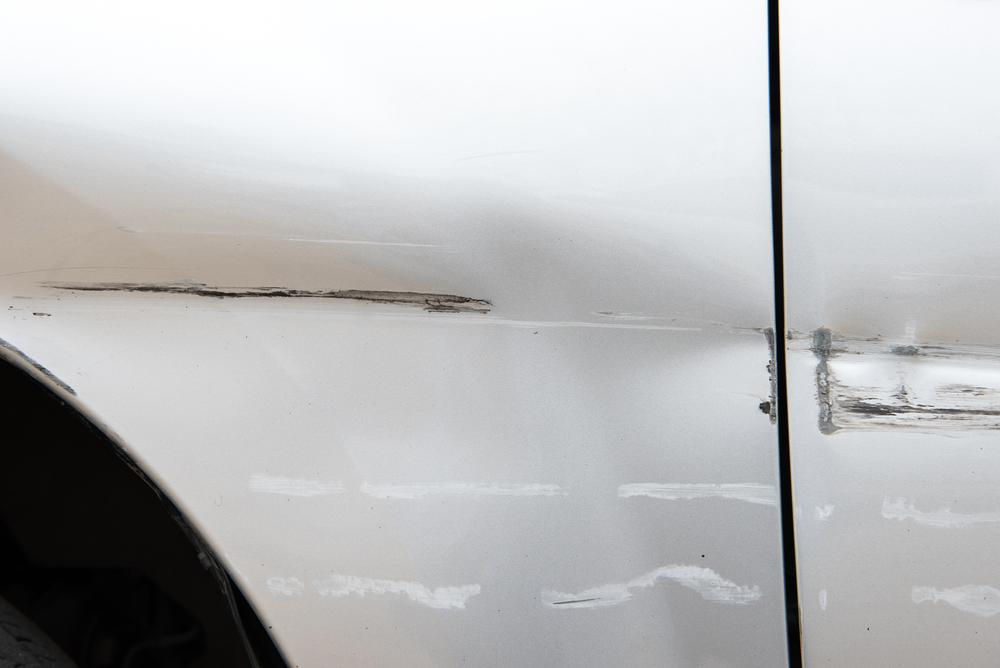dent: (11, 159, 777, 668), (803, 319, 1000, 438)
scratch: (885, 496, 1000, 623)
